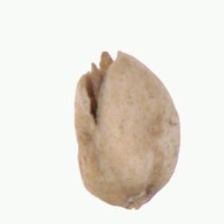L1: (73, 49, 122, 124), (111, 194, 156, 211)
L2: (73, 49, 180, 210)
